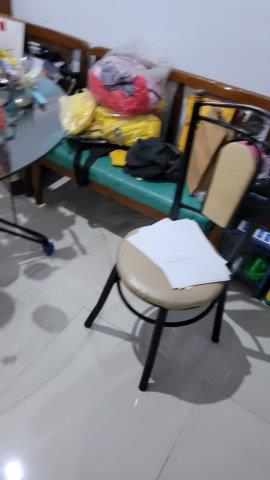kertas: (125, 216, 230, 287)
